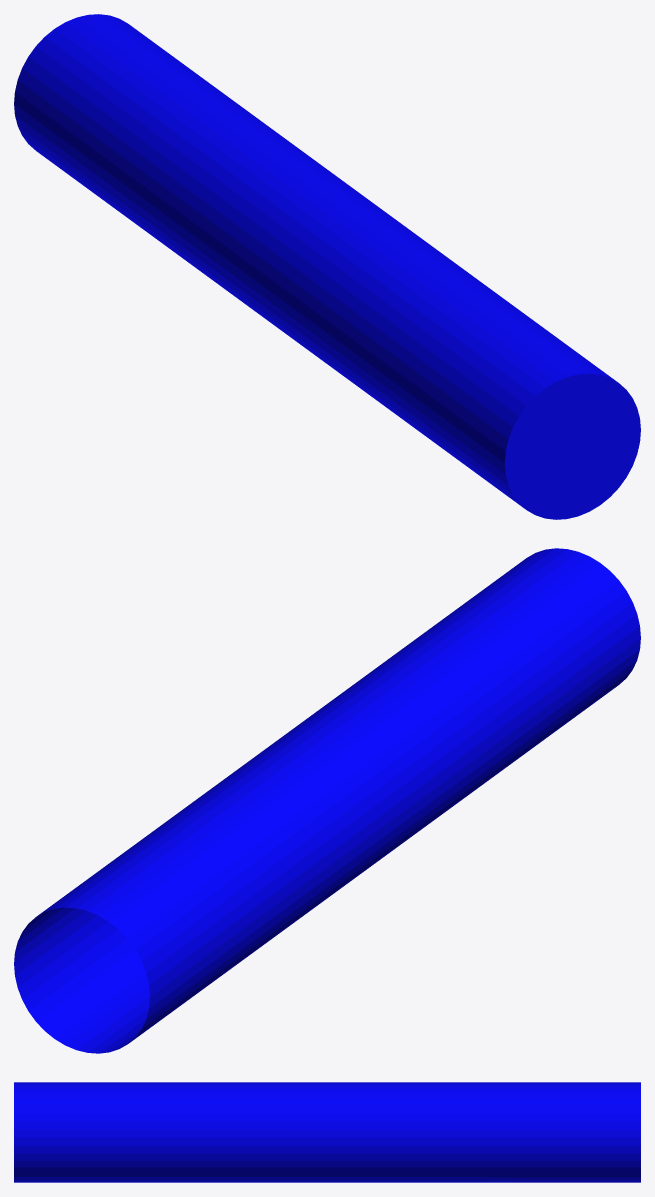
The model's file is zatana_terra_Z_parts_vis_14.dae.
3 views of the same model, one above another, from view 1: azimuth 30°, elevation 25°; view 2: azimuth 150°, elevation 25°; view 3: azimuth 270°, elevation 25° (orthographic). The views are drawn at different scales.
Visible parts, largest first — view 1: Node_000002318374D100; view 2: Node_000002318374D100; view 3: Node_000002318374D100.
Part boxes in pixels (box(x1,y1,x2,y2)): Node_000002318374D100: box(14, 14, 640, 519); Node_000002318374D100: box(14, 548, 640, 1053); Node_000002318374D100: box(14, 1082, 640, 1182).
Bounding box in the file's own units: 0.0016 × 0.00159 × 0.01.
